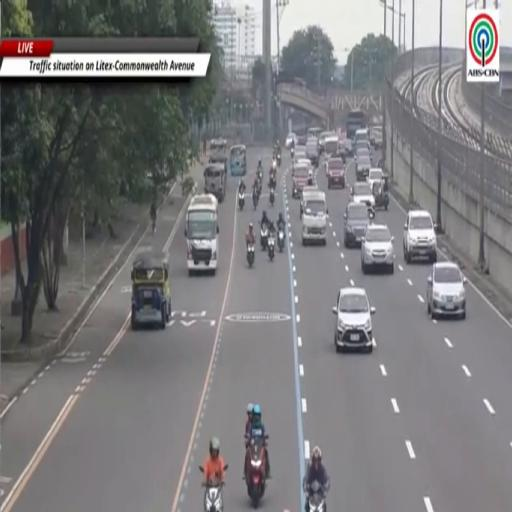bus: (185, 195, 218, 275), (346, 110, 366, 138)
car: (333, 287, 375, 353), (426, 262, 466, 318), (403, 211, 437, 263), (361, 224, 394, 274), (344, 203, 369, 248), (351, 182, 375, 213), (326, 158, 345, 188), (292, 165, 309, 198), (356, 155, 372, 181), (306, 138, 319, 167), (370, 126, 383, 149), (369, 168, 383, 189), (355, 141, 371, 155), (355, 148, 371, 161), (296, 157, 312, 169), (294, 146, 306, 162), (343, 139, 354, 156), (285, 133, 296, 149), (296, 135, 308, 146)
jeepney: (131, 253, 171, 330), (204, 164, 226, 202), (209, 140, 227, 173), (230, 144, 247, 175)
motorcycle: (246, 436, 267, 508), (203, 483, 223, 511), (307, 482, 326, 511), (268, 233, 275, 261), (261, 224, 268, 250), (247, 244, 254, 267), (278, 230, 284, 252), (252, 189, 258, 210), (239, 191, 245, 210), (269, 174, 276, 188), (270, 188, 275, 205), (277, 153, 281, 167), (291, 148, 294, 158)
truck: (302, 190, 327, 245)
